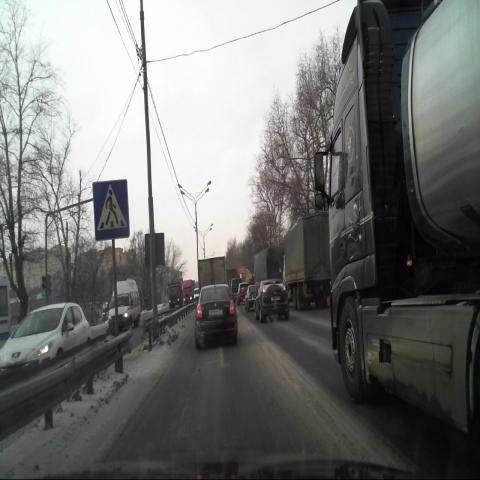5_19_1: (92, 178, 130, 241)
